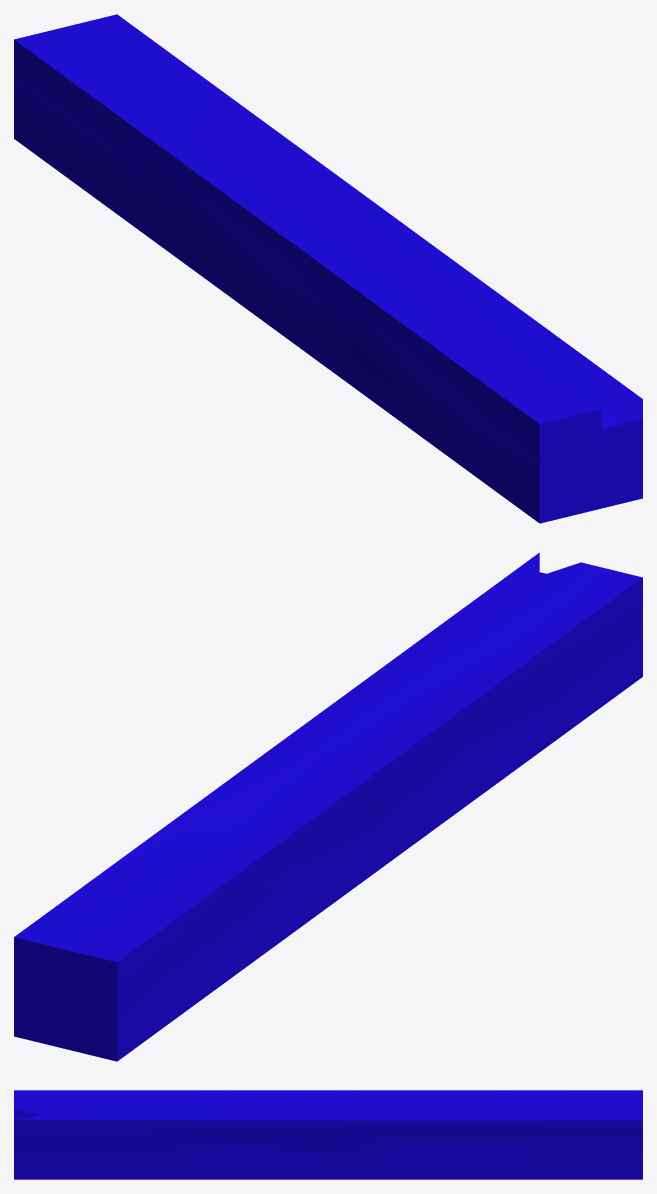
File: wood log1,5.fbx
The picture shows the model from 3 angles, top to bottom: view 1: azimuth 30°, elevation 25°; view 2: azimuth 150°, elevation 25°; view 3: azimuth 270°, elevation 25°; orthographic projection. The views are drawn at different scales.
Parts seen in each view (by area): view 1: wood log1,5; view 2: wood log1,5; view 3: wood log1,5.
Boxes of the visible parts, box(x1,y1,x2,y2) form: wood log1,5: box(14, 14, 642, 523); wood log1,5: box(14, 552, 642, 1061); wood log1,5: box(14, 1090, 642, 1179).
Size of the model in its own units: 0.17 by 0.16 by 1.5.
